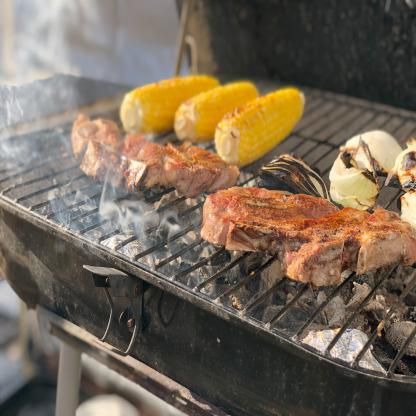Carne: (199, 179, 415, 303), (60, 105, 237, 204)
